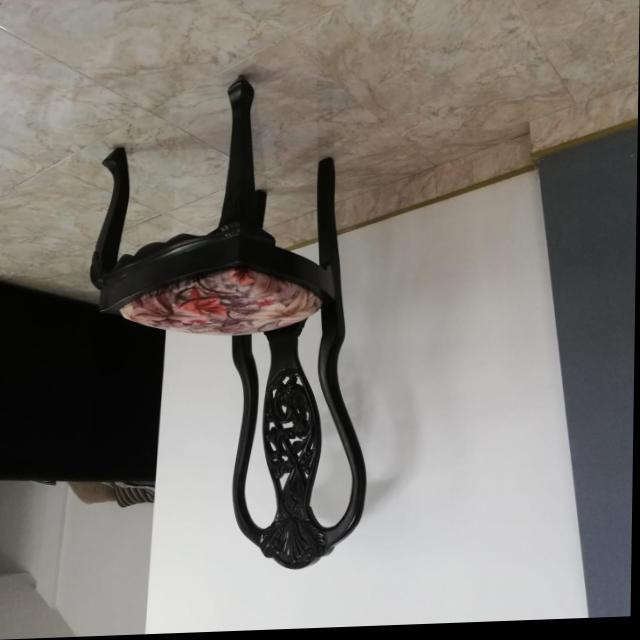Chair: (86, 77, 372, 579)
